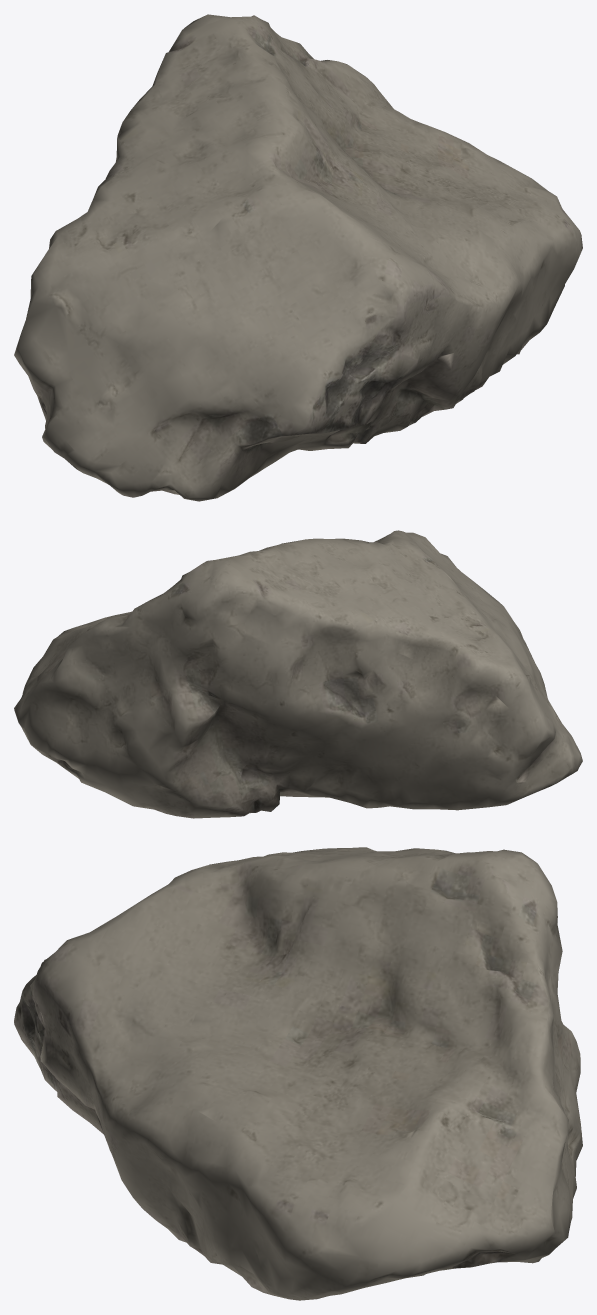
File: moon_rock_03.glb
3 views of the same model, one above another, from view 1: azimuth 30°, elevation 25°; view 2: azimuth 150°, elevation 25°; view 3: azimuth 270°, elevation 25° (orthographic). The views are drawn at different scales.
Parts seen in each view (by area): view 1: lod0; view 2: lod0; view 3: lod0.
Part boxes in pixels (x1=…): lod0: x1=14, y1=14, x2=582, y2=501; lod0: x1=14, y1=530, x2=582, y2=818; lod0: x1=14, y1=847, x2=582, y2=1300.
Size of what is drawn, in the model's own units: 2.47 by 1.28 by 1.9.
Materials: 1 (1 with a texture image).
